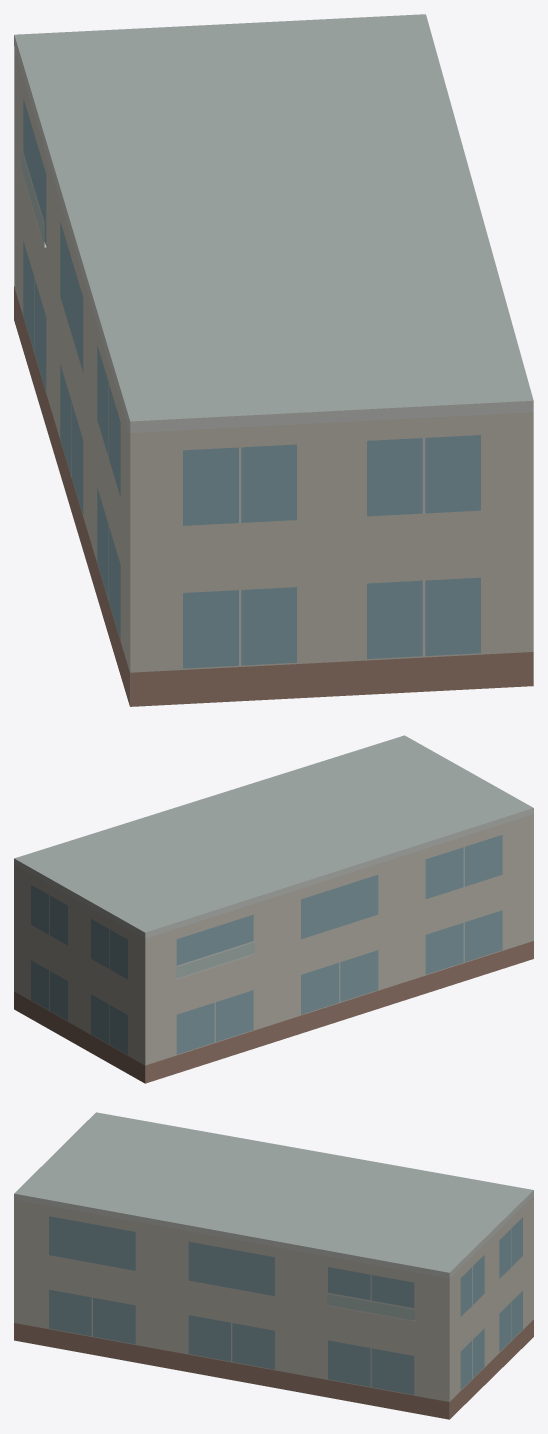
Rendered from survey-upis-32527314.glb.
3 views of the same model, one above another, from view 1: azimuth 30°, elevation 25°; view 2: azimuth 150°, elevation 25°; view 3: azimuth 270°, elevation 25° (orthographic). The views are drawn at different scales.
Parts seen in each view (by area): view 1: survey-upis-32527314.tmp; view 2: survey-upis-32527314.tmp; view 3: survey-upis-32527314.tmp.
Boxes of the visible parts, x1,y1,x2,y2 form: survey-upis-32527314.tmp: (14,14,533,706); survey-upis-32527314.tmp: (14,735,533,1083); survey-upis-32527314.tmp: (14,1112,533,1419).
Bounding box in the file's own units: 14.31 × 6.1 × 19.58.
